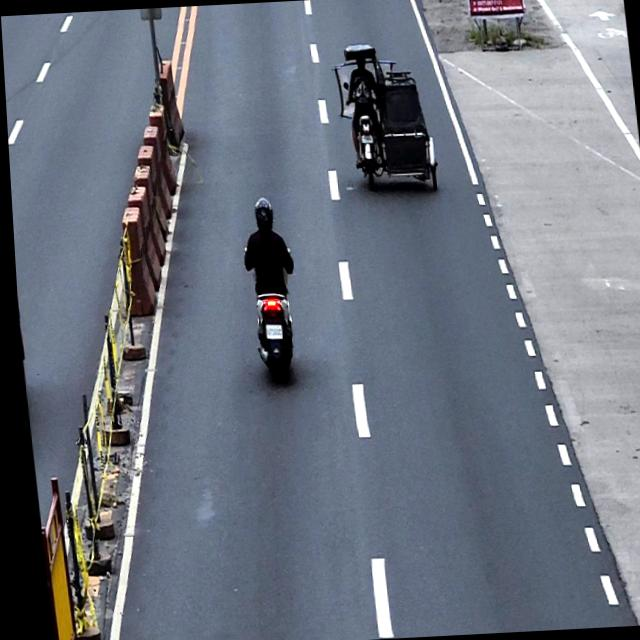License-Plate: (260, 321, 279, 340), (359, 132, 372, 145)
Motorcycle: (239, 242, 302, 381)
Tricycle: (329, 40, 439, 196)
